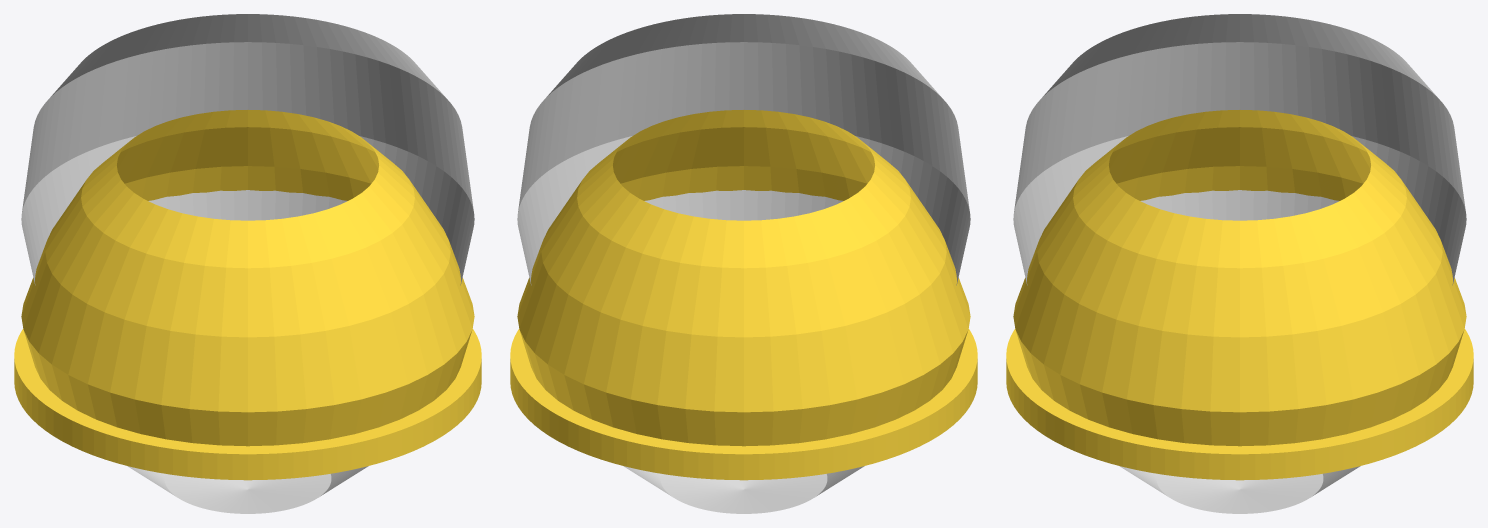
File: emberveil-v2.glb
The picture shows the model from 3 angles, left to right: view 1: azimuth 30°, elevation 25°; view 2: azimuth 150°, elevation 25°; view 3: azimuth 270°, elevation 25°; orthographic projection.
Parts seen in each view (by area): view 1: filigree_arc, glass_bell, filigree_arc_01, filigree_arc_02, brass_band; view 2: filigree_arc, glass_bell, filigree_arc_01, filigree_arc_02, brass_band; view 3: filigree_arc, glass_bell, filigree_arc_01, filigree_arc_02, brass_band.
Boxes of the visible parts, x1=… form: filigree_arc: x1=23, y1=110, x2=474, y2=446; glass_bell: x1=21, y1=14, x2=474, y2=513; filigree_arc_01: x1=22, y1=110, x2=471, y2=445; filigree_arc_02: x1=21, y1=110, x2=461, y2=445; brass_band: x1=14, y1=329, x2=481, y2=480; filigree_arc: x1=518, y1=110, x2=970, y2=446; glass_bell: x1=517, y1=14, x2=970, y2=513; filigree_arc_01: x1=517, y1=110, x2=951, y2=445; filigree_arc_02: x1=519, y1=110, x2=969, y2=445; brass_band: x1=510, y1=329, x2=977, y2=480; filigree_arc: x1=1013, y1=110, x2=1466, y2=445; glass_bell: x1=1013, y1=14, x2=1466, y2=513; filigree_arc_01: x1=1014, y1=110, x2=1441, y2=446; filigree_arc_02: x1=1019, y1=110, x2=1463, y2=445; brass_band: x1=1006, y1=329, x2=1473, y2=480.
Size of what is drawn, in the model's own units: 1.96 by 2 by 1.96.
